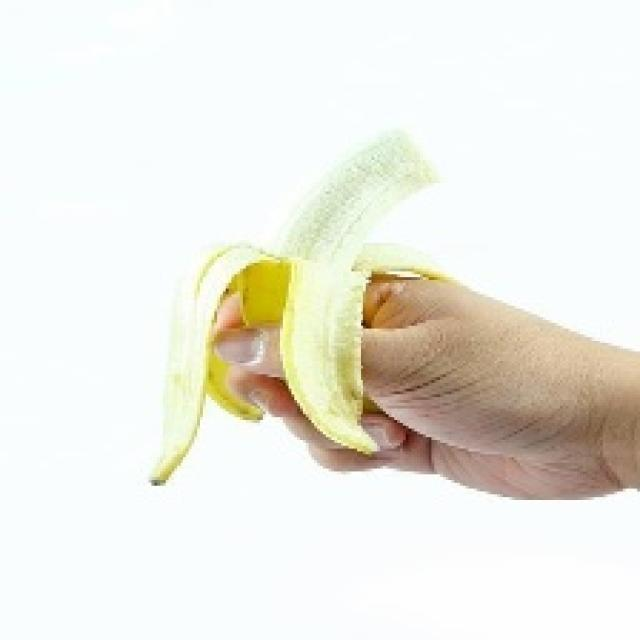Banana: (146, 126, 457, 486)
